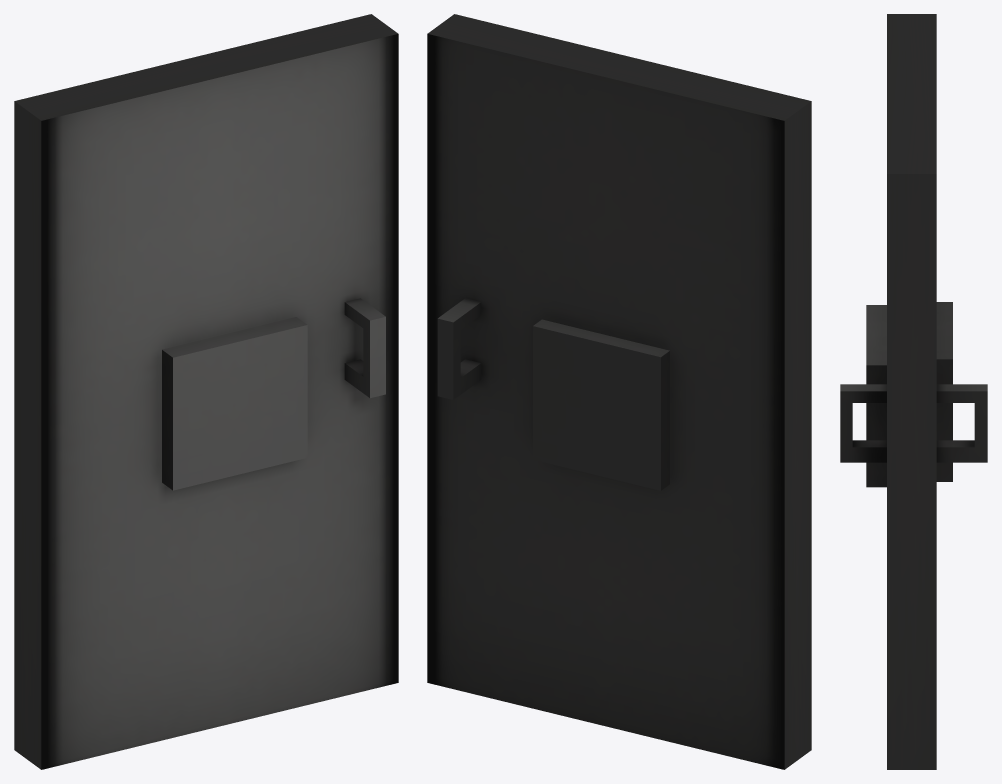
The model's file is puerta.gltf.
3 renders of one model, left to right at view 1: azimuth 30°, elevation 25°; view 2: azimuth 150°, elevation 25°; view 3: azimuth 270°, elevation 25°, orthographic. The views are drawn at different scales.
Visible parts, largest first — view 1: Cube.044; view 2: Cube.044; view 3: Cube.044.
Part boxes in pixels (bbox=[...]): Cube.044: bbox=[14, 14, 398, 769]; Cube.044: bbox=[427, 14, 811, 769]; Cube.044: bbox=[840, 14, 987, 769].
Bounding box in the file's own units: 1.03 × 1.78 × 0.3995.
Materials: 1 (1 with a texture image).
